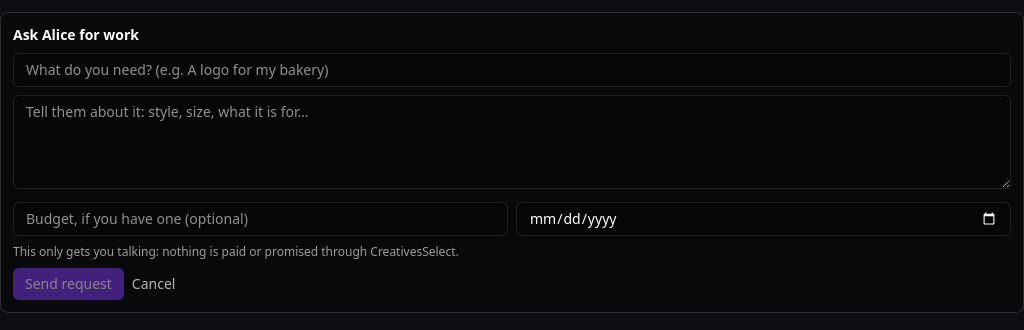
Test: WorkRequestForm › needs a title and details before it can be sent
The width and height of the screenshot is (1024, 330).
Expected: the button "Send request" is disabled, [13,268,124,300]
In the field named "Title of your request": [512, 70] box [13,53,1011,87], type "A logo"
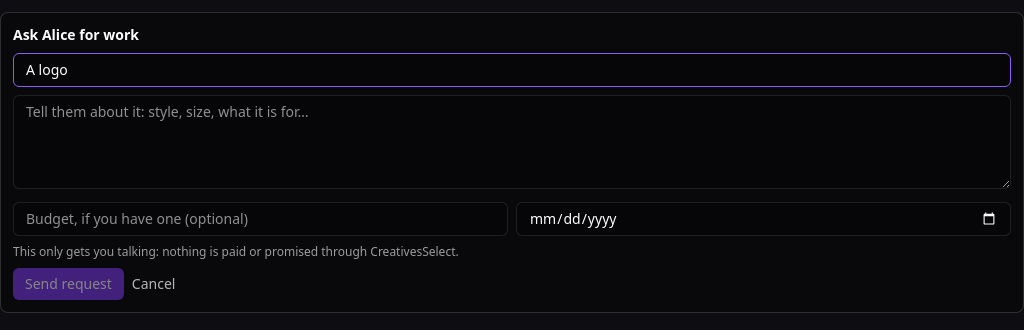
Expected: the button "Send request" is disabled, [13,268,124,300]
In the text box named "Details of your request": [512, 142] box [13,95,1011,189], type "Warm colours"
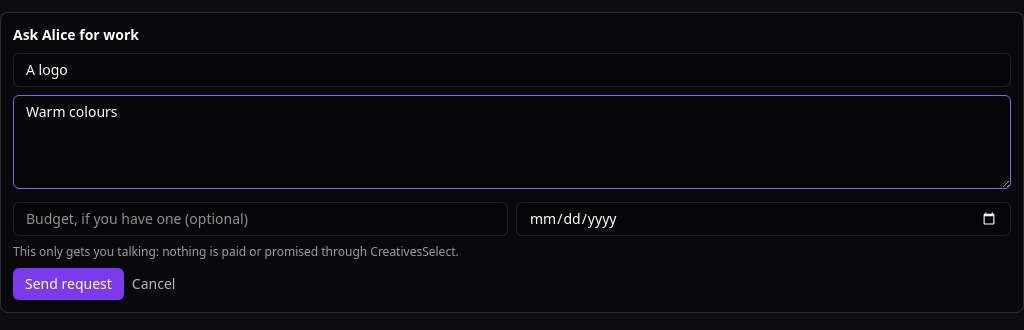
Now the button "Send request" is enabled, box [13,268,124,300]
